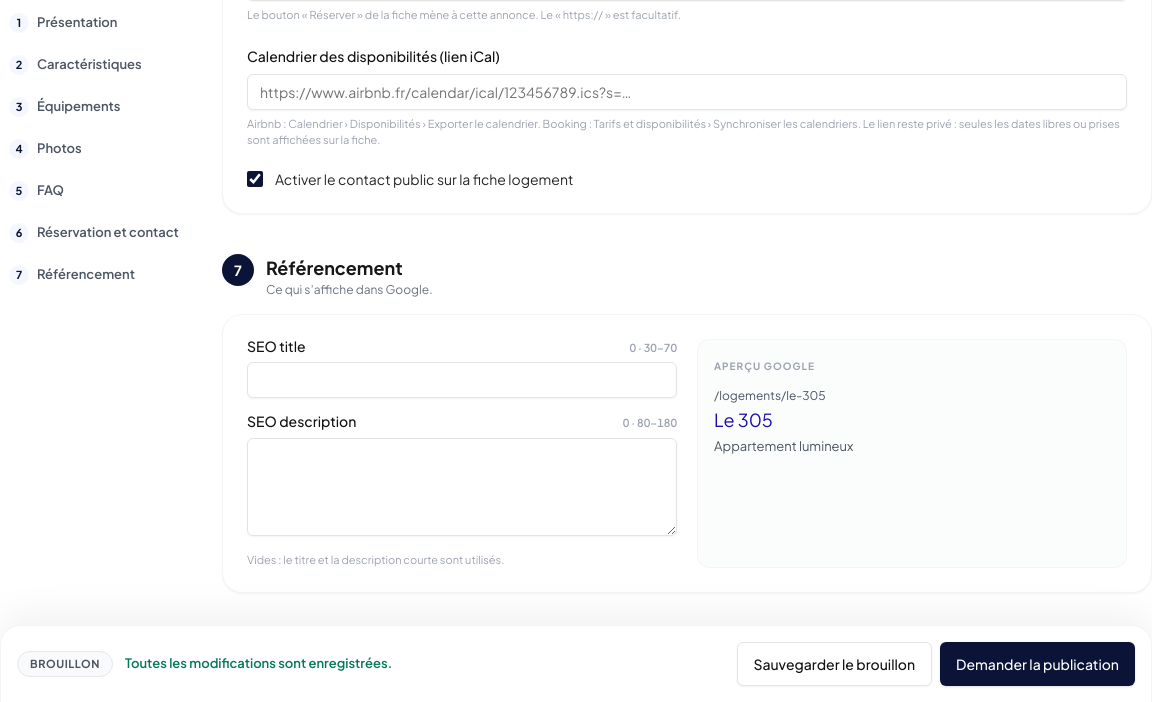
Scenario: 079 — page Logement › AC-03-01 : compteur SEO hors plage signalé
(page scrolled)
In the field labelled "SEO title": (462, 380) [247,362,677,398], type "Trop court"
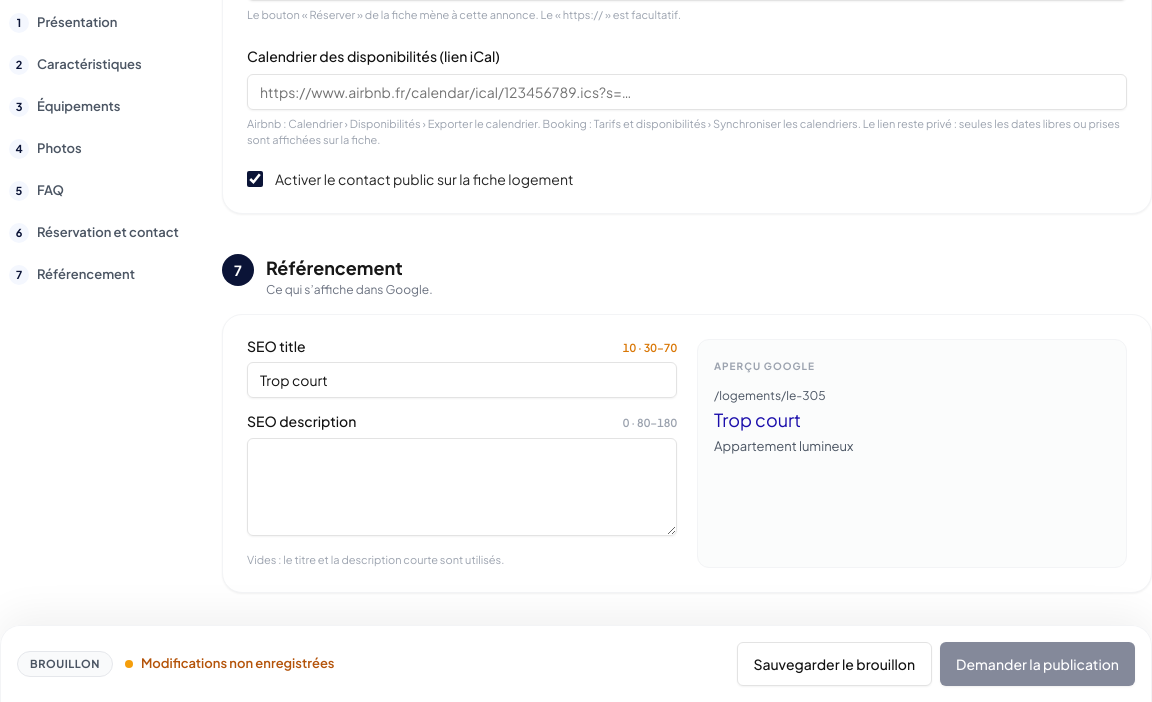
Expected: the text with test id "counter-seo-title" reads "10 · 30–70", [623,340,677,356]
